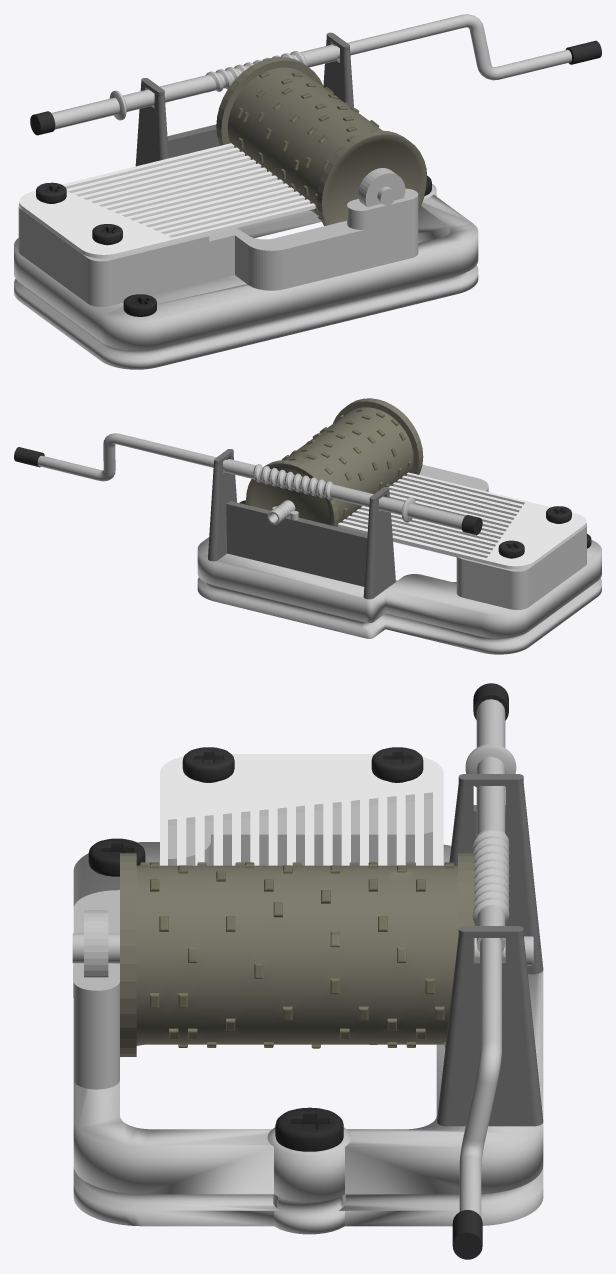
3 views of the same model, one above another, from view 1: azimuth 30°, elevation 25°; view 2: azimuth 150°, elevation 25°; view 3: azimuth 270°, elevation 25° (orthographic). The views are drawn at different scales.
Parts seen in each view (by area): view 1: Cylinder, Cube.001, Cylinder.003, Object_44, Object_42, Cylinder.001, Cylinder.008, Cylinder.002, Cube.004, Object_70.002, Cylinder.006, Object_70.001 (+2 smaller); view 2: Cylinder, Cube.001, Cylinder.003, Cube.004, Cylinder.001, Object_44, Object_42, Cylinder.008, Cylinder.002, Object_56, Object_70.001, Cylinder.006 (+2 smaller); view 3: Cylinder, Cylinder.003, Cube.001, Cylinder.001, Object_44, Object_42, Cylinder.002, Cylinder.008, Object_70.003, Object_70, Object_70.001, Object_70.002 (+2 smaller).
Boxes of the visible parts, x1=… form: Cylinder: x1=14, y1=168, x2=478, y2=369; Cube.001: x1=19, y1=143, x2=315, y2=258; Cylinder.003: x1=227, y1=67, x2=426, y2=225; Object_44: x1=51, y1=44, x2=337, y2=129; Object_42: x1=334, y1=14, x2=571, y2=80; Cylinder.001: x1=135, y1=32, x2=353, y2=166; Cylinder.008: x1=216, y1=57, x2=427, y2=225; Cylinder.002: x1=236, y1=71, x2=379, y2=219; Cube.004: x1=167, y1=124, x2=219, y2=158; Object_70.002: x1=123, y1=294, x2=156, y2=316; Cylinder.006: x1=565, y1=40, x2=601, y2=64; Object_70.001: x1=36, y1=182, x2=66, y2=203; Cylinder: x1=197, y1=465, x2=601, y2=654; Cube.001: x1=338, y1=472, x2=586, y2=569; Cylinder.003: x1=246, y1=407, x2=413, y2=525; Cube.004: x1=226, y1=501, x2=367, y2=586; Cylinder.001: x1=208, y1=449, x2=395, y2=599; Object_44: x1=224, y1=459, x2=464, y2=529; Object_42: x1=37, y1=433, x2=226, y2=481; Cylinder.008: x1=246, y1=398, x2=423, y2=526; Cylinder.002: x1=281, y1=408, x2=411, y2=519; Object_56: x1=267, y1=500, x2=295, y2=524; Object_70.001: x1=498, y1=540, x2=524, y2=558; Cylinder.006: x1=14, y1=447, x2=44, y2=467; Cylinder: x1=73, y1=799, x2=543, y2=1234; Cylinder.003: x1=136, y1=865, x2=457, y2=1044; Cube.001: x1=160, y1=754, x2=443, y2=865; Cylinder.001: x1=437, y1=774, x2=543, y2=1126; Object_44: x1=465, y1=699, x2=516, y2=951; Object_42: x1=459, y1=938, x2=501, y2=1217; Cylinder.002: x1=140, y1=862, x2=453, y2=1048; Cylinder.008: x1=120, y1=853, x2=474, y2=1056; Object_70.003: x1=275, y1=1107, x2=343, y2=1151; Object_70: x1=182, y1=747, x2=234, y2=782; Object_70.001: x1=371, y1=747, x2=423, y2=782; Object_70.002: x1=88, y1=838, x2=145, y2=876.
Size of the model in its own units: 4.73 by 1.26 by 1.93.
